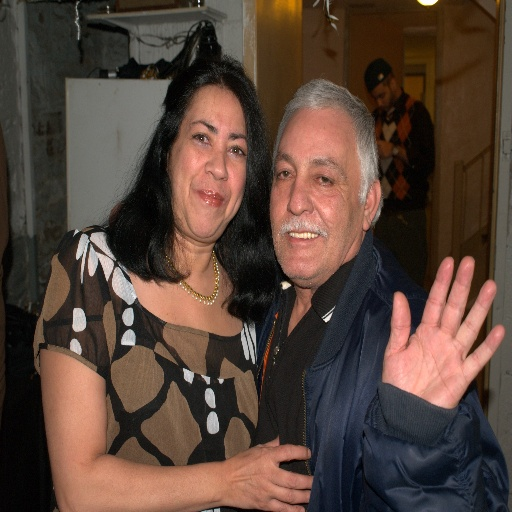hand: (386, 260, 503, 432), (222, 435, 314, 511), (375, 140, 391, 160)
